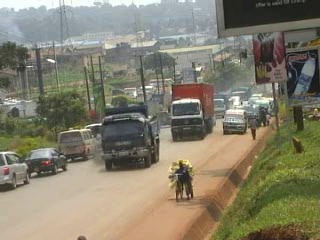Car: (26, 144, 70, 178), (0, 149, 32, 189), (154, 109, 170, 127), (228, 95, 243, 109)
